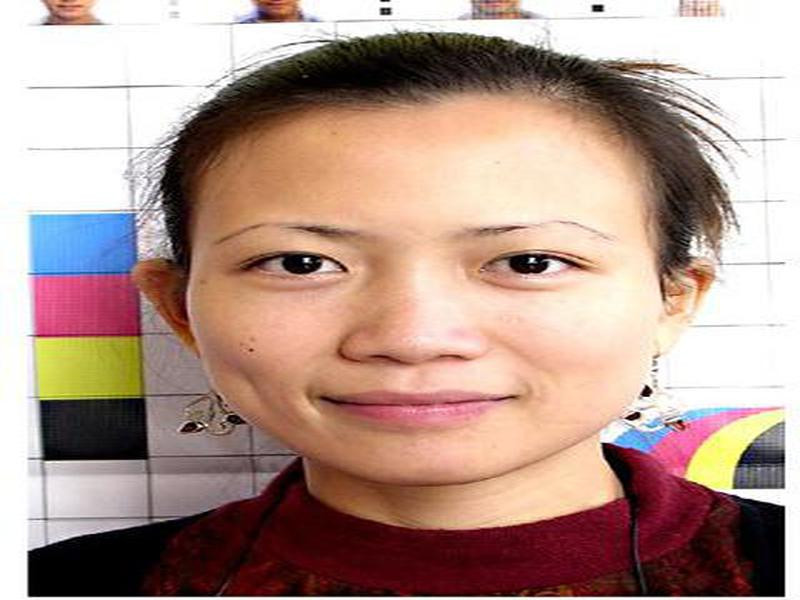without_mask: (191, 136, 655, 487)
